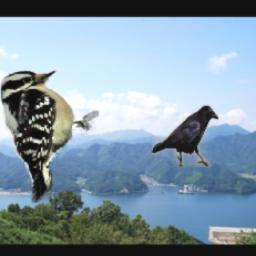Crow: (152, 105, 218, 167)
Woodpecker: (0, 68, 99, 204)
